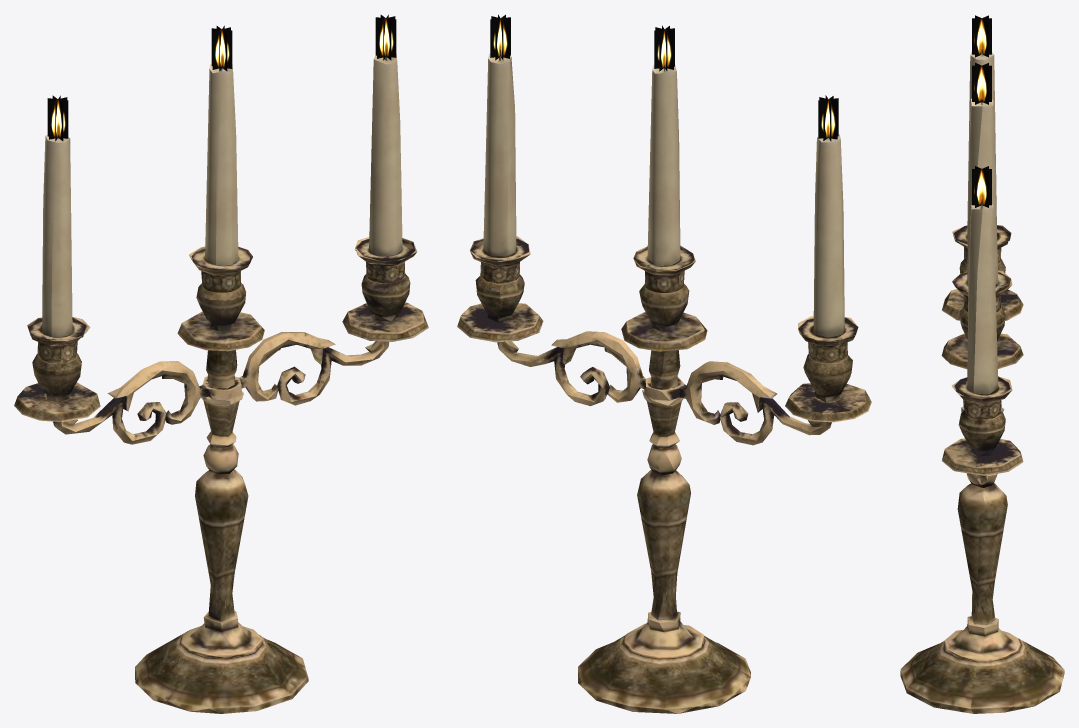
Rendered from sconce-brass.lod1.glb.
The picture shows the model from 3 angles, left to right: view 1: azimuth 30°, elevation 25°; view 2: azimuth 150°, elevation 25°; view 3: azimuth 270°, elevation 25°; orthographic projection. The views are drawn at different scales.
Parts seen in each view (by area): view 1: sconce-brass; view 2: sconce-brass; view 3: sconce-brass.
Boxes of the visible parts, left/top/right/bottom form: sconce-brass: left=14, top=14, right=428, bottom=713; sconce-brass: left=457, top=14, right=871, bottom=713; sconce-brass: left=900, top=15, right=1064, bottom=713.
Bounding box in the file's own units: 0.2617 × 0.4009 × 0.0975.
3 materials, 3 textured.
